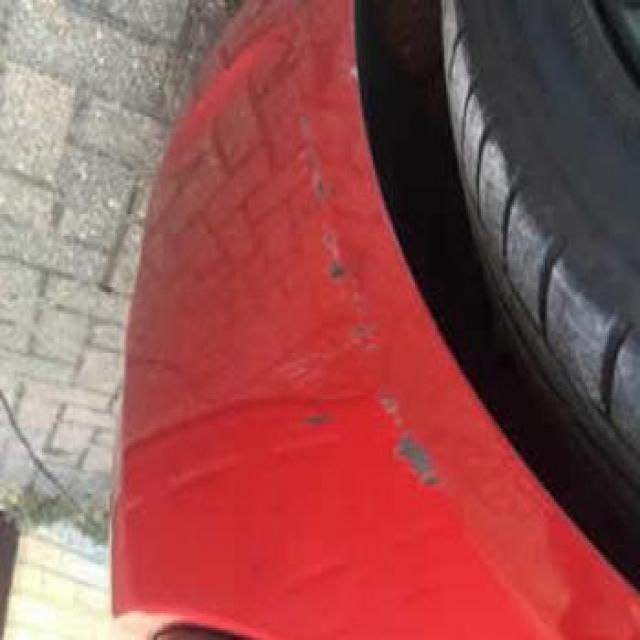scratch: (257, 67, 471, 522)
